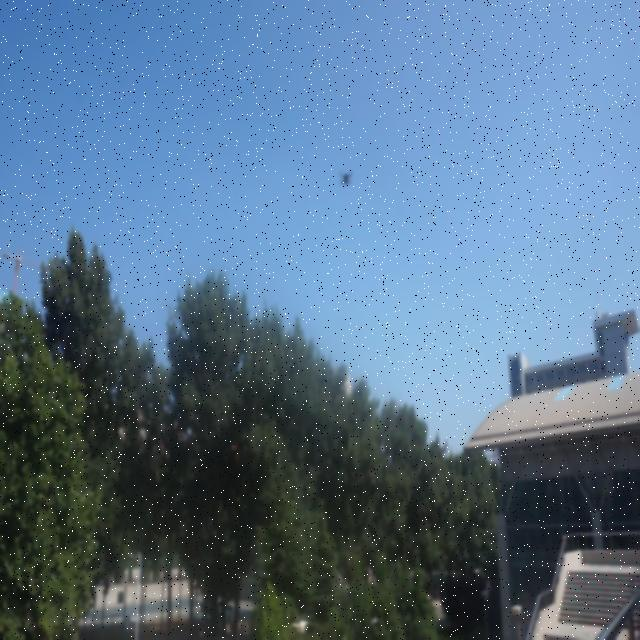UAV: (340, 172, 353, 186)
